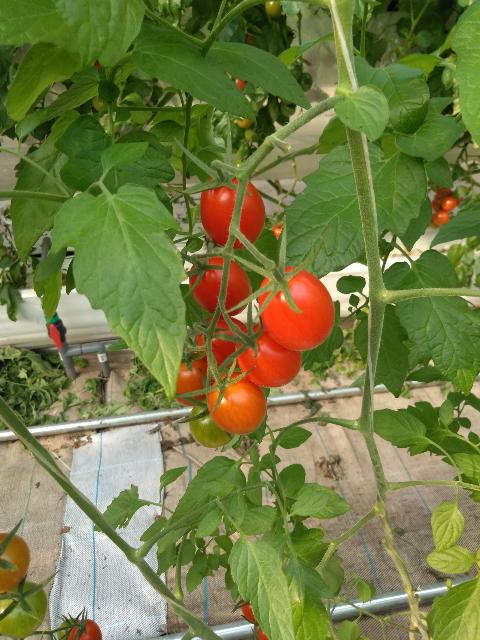l_fully_ripened: (258, 266, 335, 352), (199, 174, 266, 249), (236, 323, 302, 390), (189, 254, 251, 317), (196, 315, 247, 370), (69, 618, 102, 640)
l_green: (0, 579, 48, 639), (189, 399, 237, 449), (56, 618, 81, 640)
l_half_ripened: (207, 371, 267, 436), (175, 351, 217, 408), (0, 533, 30, 593)
